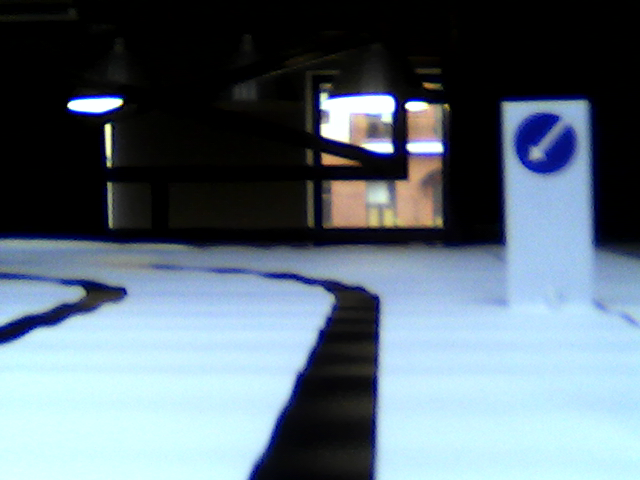prep: (513, 111, 577, 175)
